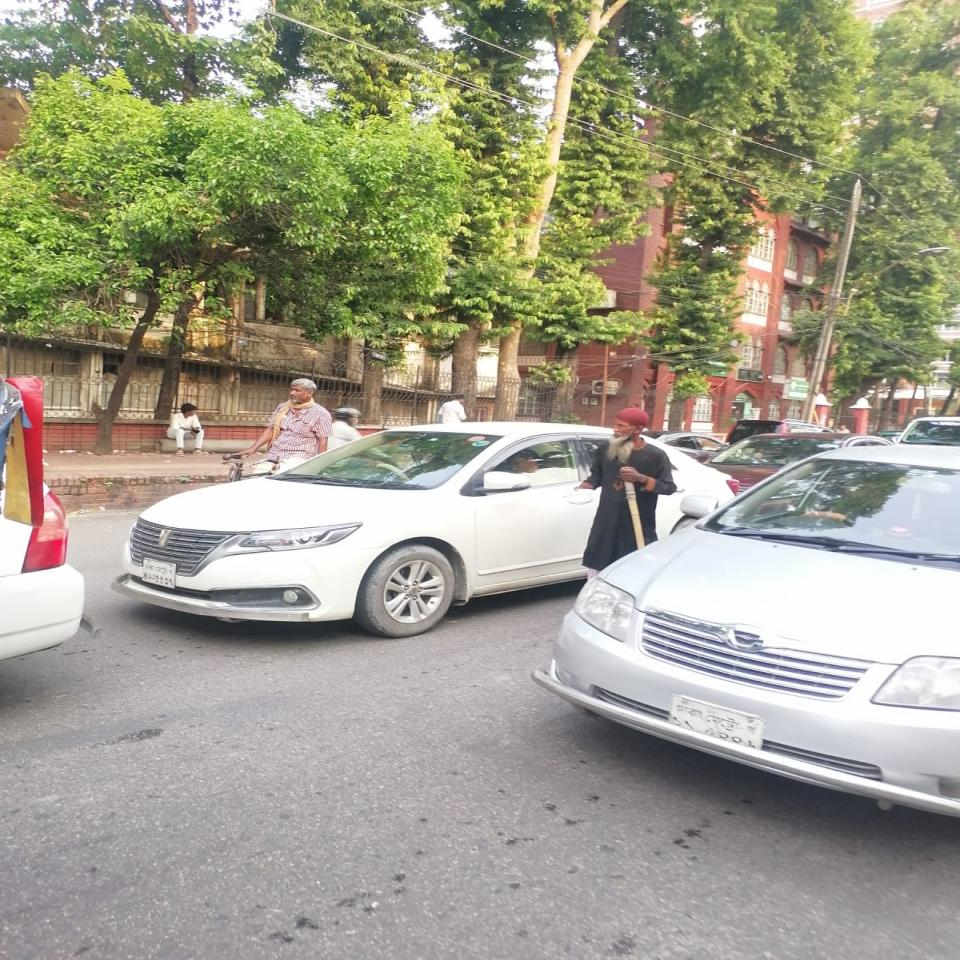person: (581, 408, 677, 572)
